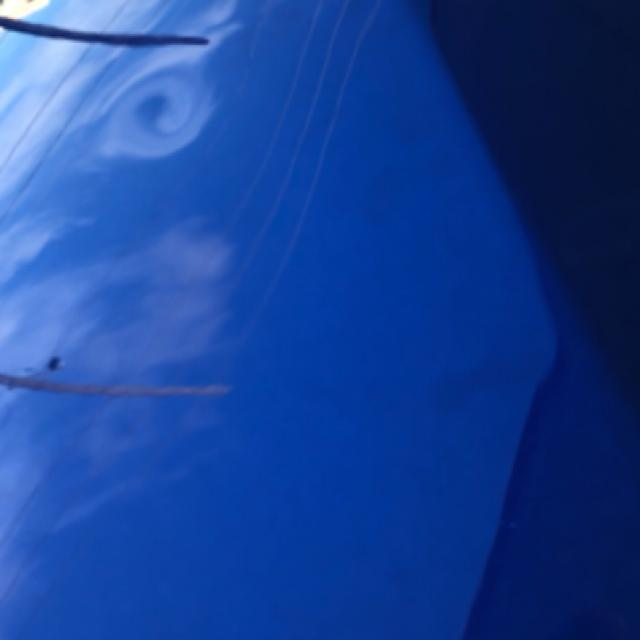dents: (74, 70, 229, 160)
